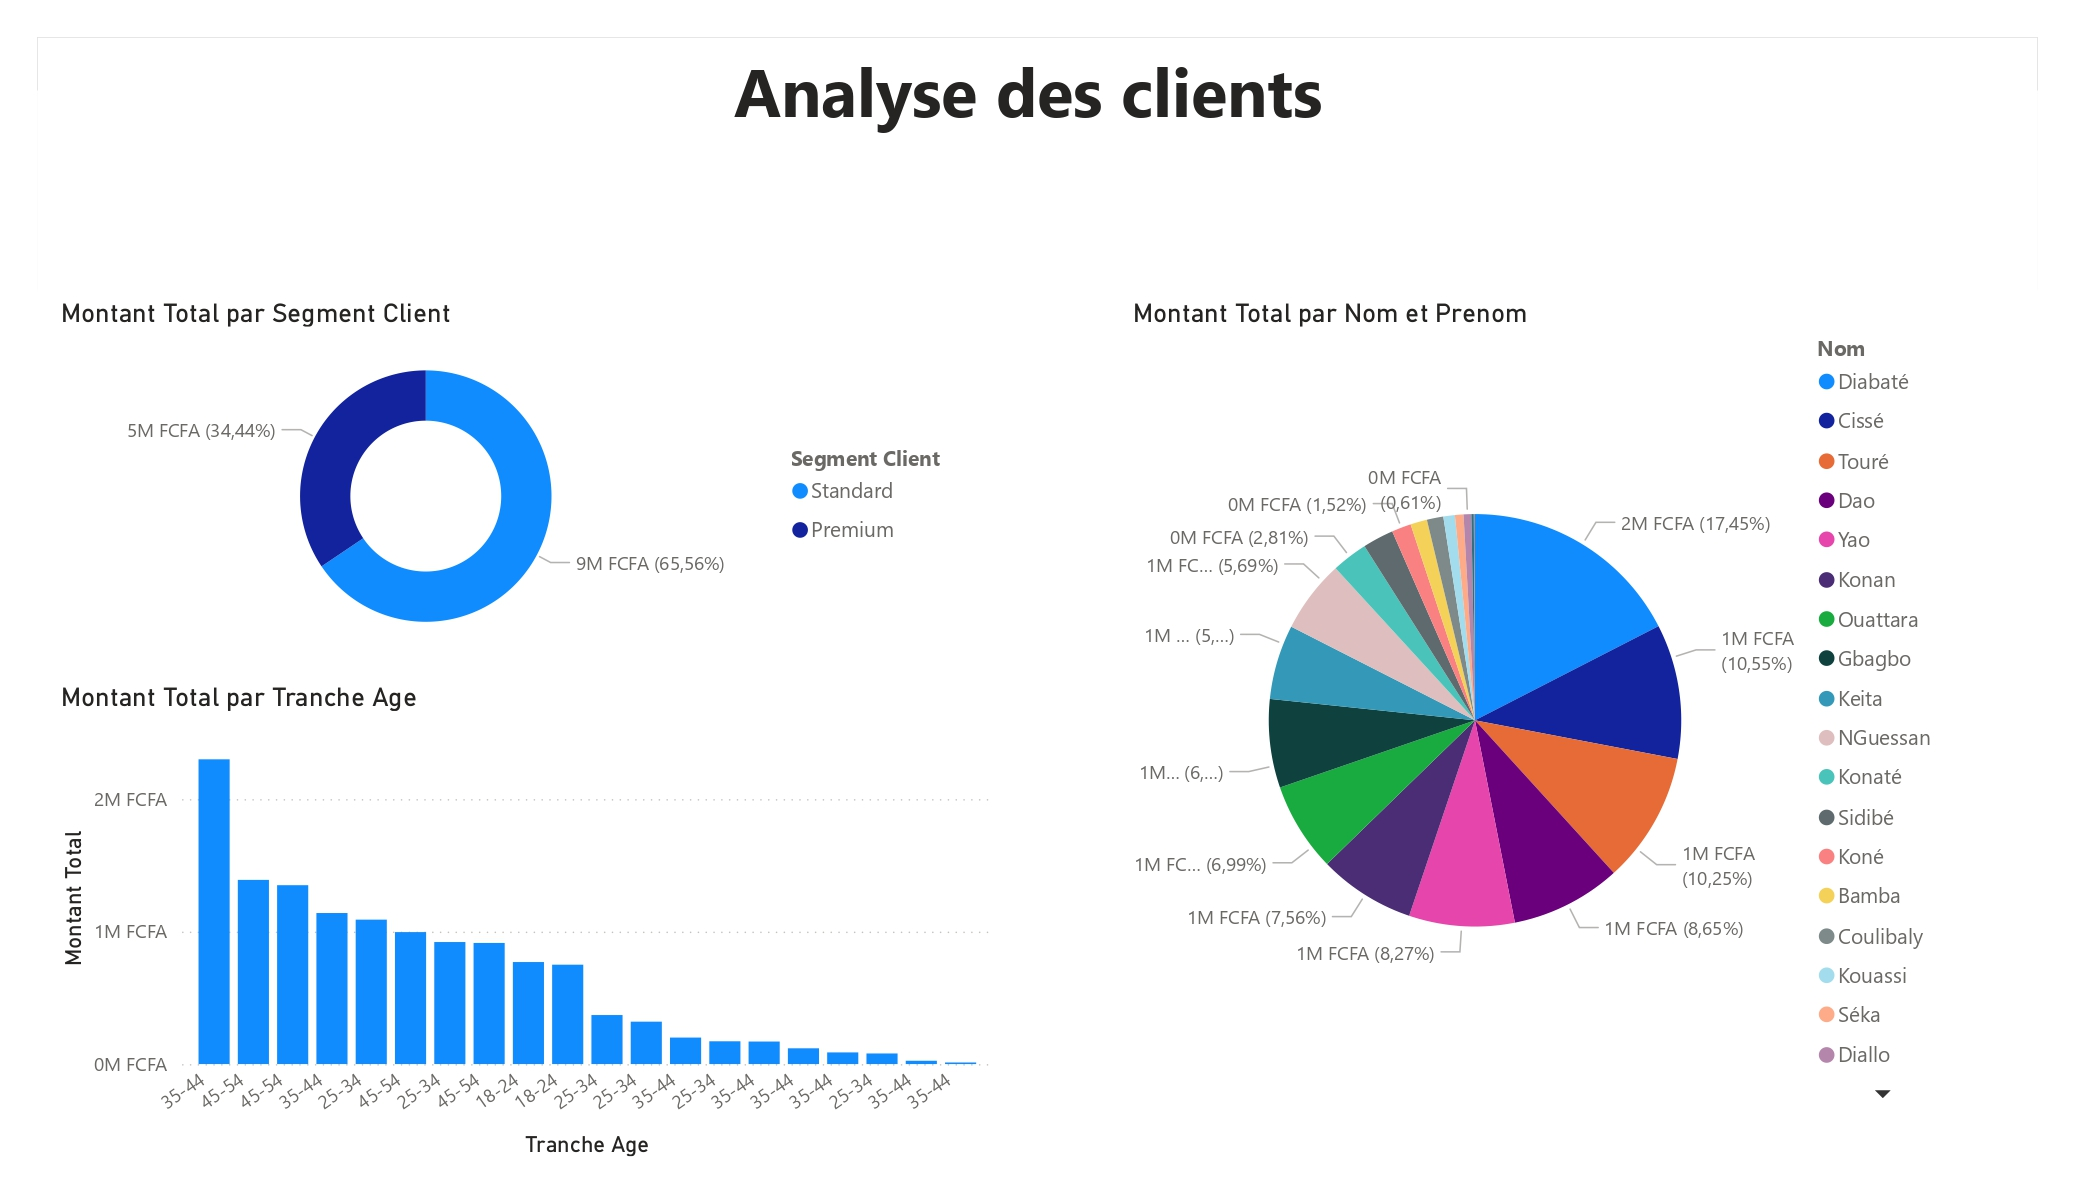

The page's visual inventory and layout, read from the dashboard file:
{"tool":"powerbi","page":{"name":"Analyse des clients","canvas":[1280,720],"ordinal":4},"visuals":[{"type":"donutChart","fields":{"Category":["DIM CLIENT.Segment Client"],"Y":["FAIT VENTES.Montant Total"]},"box":[10.5,165.8,588.5,236],"z":0},{"type":"columnChart","fields":{"Category":["DIM CLIENT.Tranche Age"],"Y":["FAIT VENTES.Montant Total"]},"box":[10.1,411.5,606.4,309.1],"z":1000},{"type":"pieChart","fields":{"Category":["DIM CLIENT.Nom"],"Series":["DIM CLIENT.Prenom"],"Y":["FAIT VENTES.Montant Total"]},"box":[696.1,165.8,530.3,522.8],"z":2000},{"type":"textbox","box":[0,0,1280.2,165.8],"z":3000}]}

Visuals, with their boxes on the page's 1280x720 design canvas (x1, y1, x2, y2). These are canvas units, not pixel positions in the 2075x1200 screenshot, which may show the page scaled, cropped or inside an application window:
donutChart - DIM CLIENT.Segment Client x FAIT VENTES.Montant Total: rect(10, 166, 599, 402)
columnChart - DIM CLIENT.Tranche Age x FAIT VENTES.Montant Total: rect(10, 412, 616, 721)
pieChart - DIM CLIENT.Nom x DIM CLIENT.Prenom: rect(696, 166, 1226, 689)
textbox: rect(0, 0, 1280, 166)
